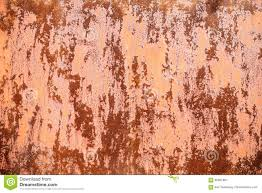rust: (92, 95, 145, 172), (58, 47, 98, 145), (31, 24, 66, 101), (3, 73, 28, 167), (169, 142, 241, 174), (176, 85, 245, 117), (103, 30, 136, 95), (3, 4, 73, 34), (215, 83, 242, 151), (192, 41, 217, 94), (197, 11, 230, 34), (80, 2, 96, 42), (106, 4, 126, 31)
